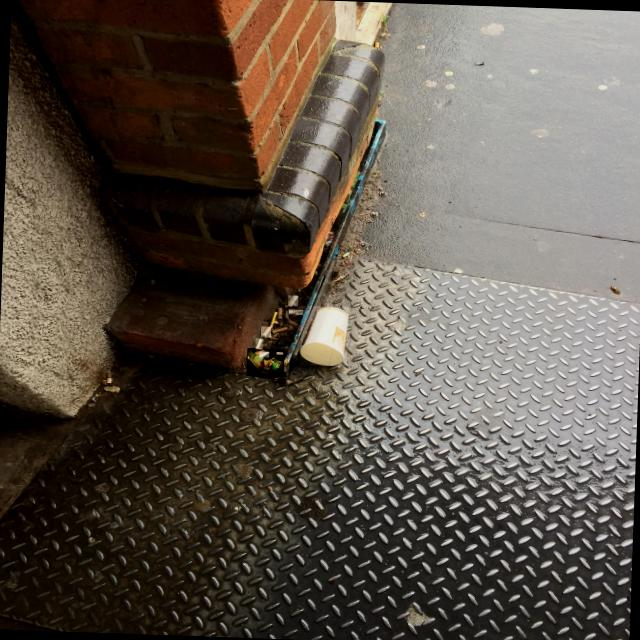Cigarette: (260, 326, 271, 337), (288, 295, 298, 306), (271, 327, 287, 333), (256, 339, 262, 349), (289, 310, 302, 314), (289, 321, 297, 327), (284, 305, 287, 320), (260, 352, 269, 357), (293, 314, 302, 318), (255, 350, 264, 354), (278, 309, 281, 319), (295, 314, 301, 319), (374, 41, 378, 48), (276, 352, 283, 355), (107, 378, 111, 383)
Cup: (300, 307, 348, 365)
Unlabeled litter: (247, 348, 284, 376)
